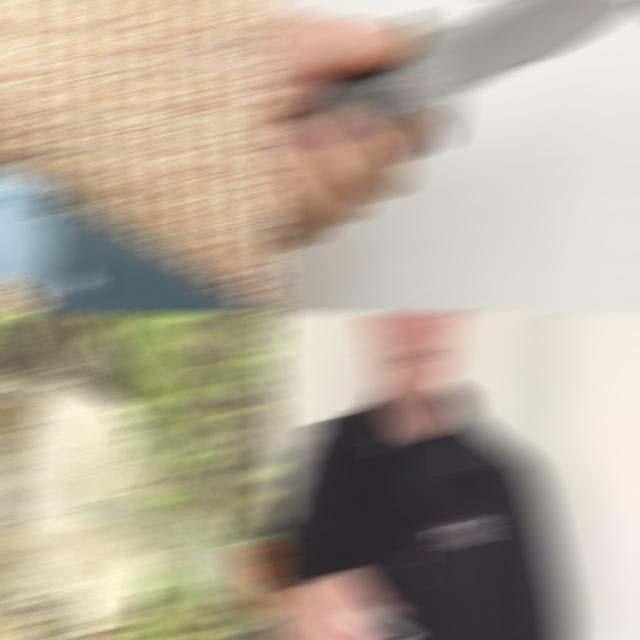Knife: (294, 2, 640, 149)
Knife_Handle: (305, 568, 546, 638)
